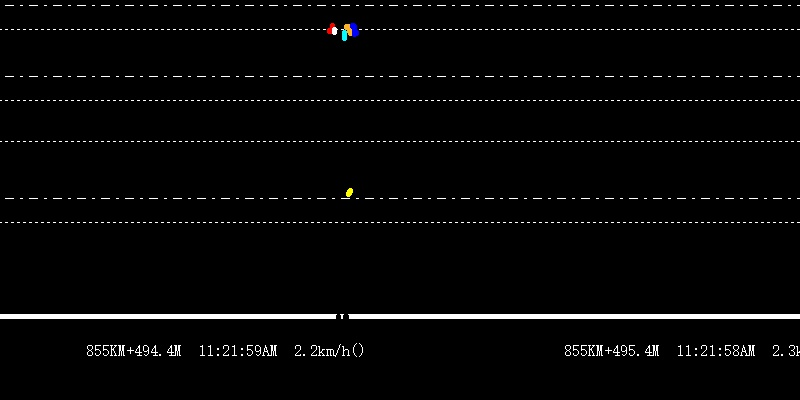face_s: (344, 21, 359, 39), (327, 20, 337, 39)
